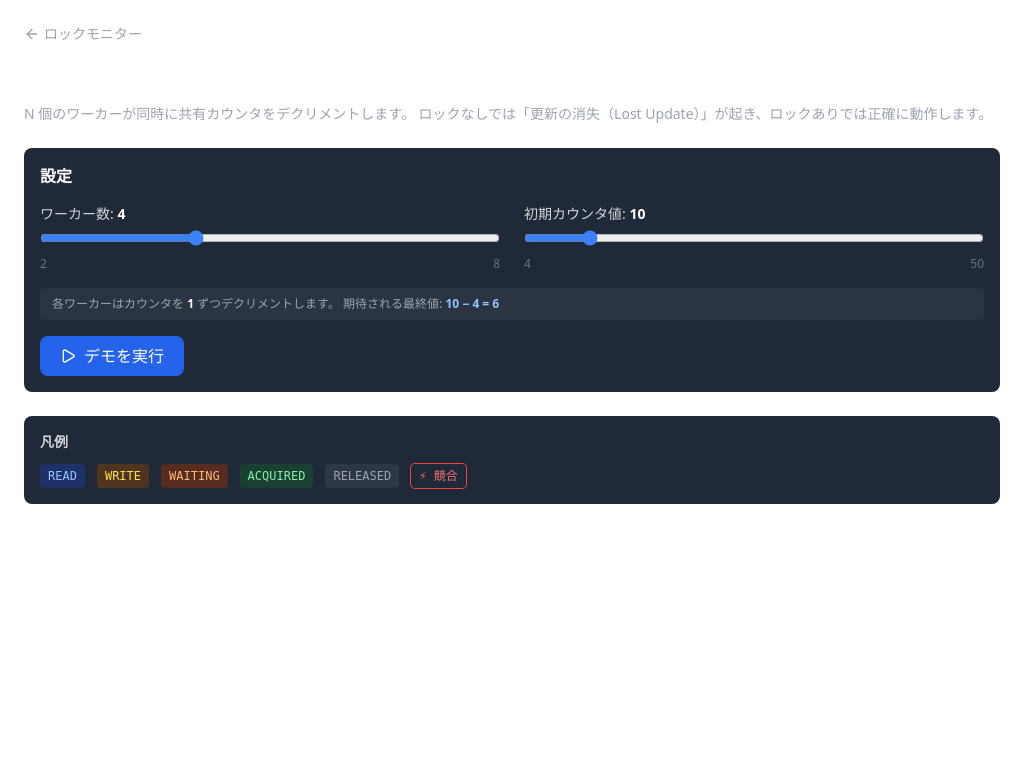
Test: LockDemoPage › shows "正確" badge for correct result
Click the button "デモを実行". click: (112, 356)
box: [40, 336, 184, 376]
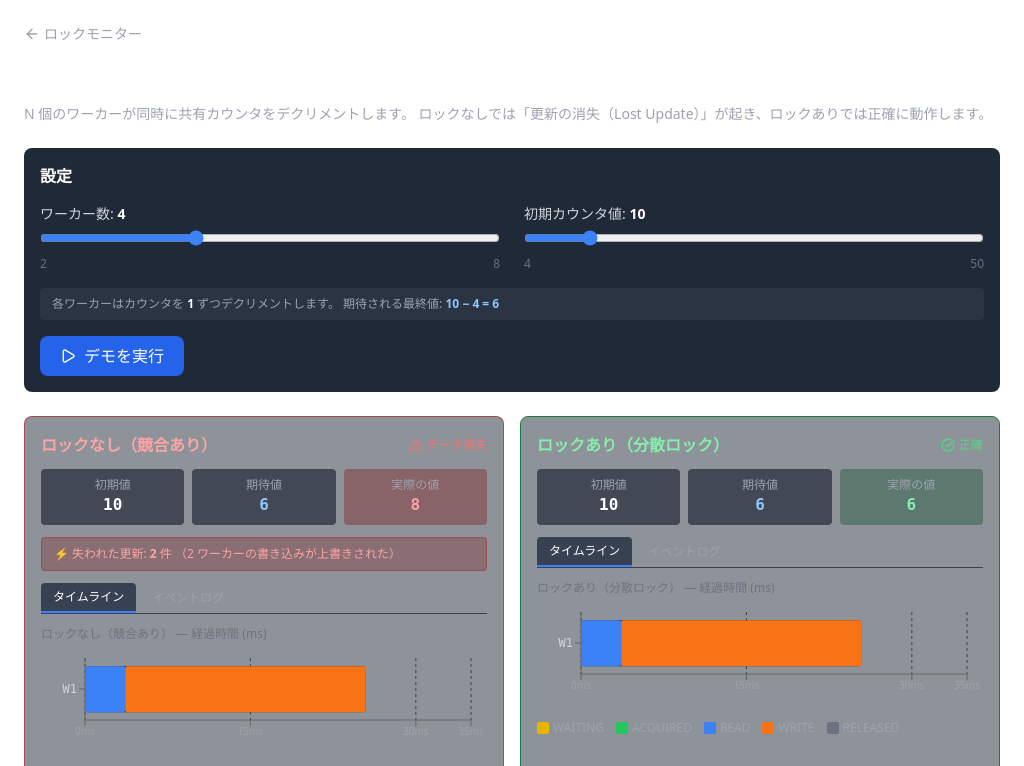
Check: the text "正確" is shown, box [941, 437, 983, 453]
